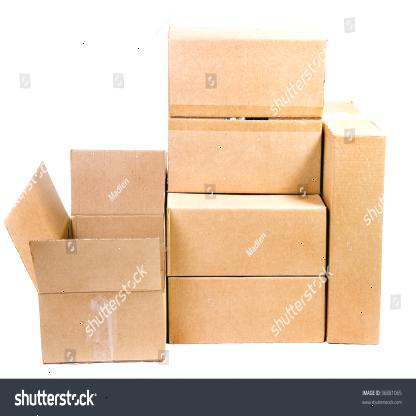box: (169, 38, 325, 194), (328, 135, 386, 345), (170, 275, 326, 344), (168, 207, 326, 274), (38, 290, 166, 363)
